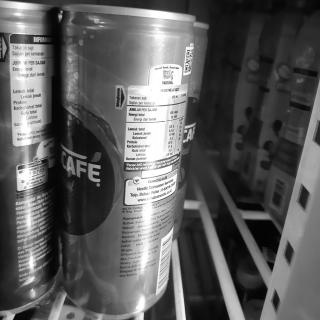alumunium_can: (58, 0, 202, 320)
